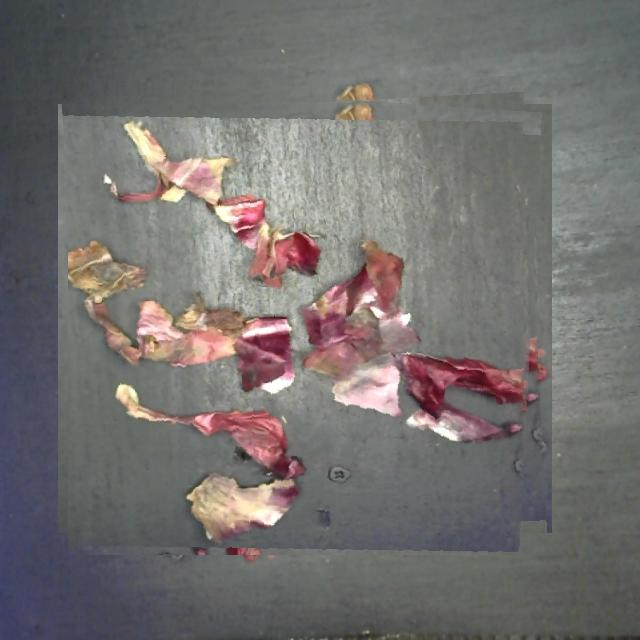biodegradable: (68, 81, 542, 555)
